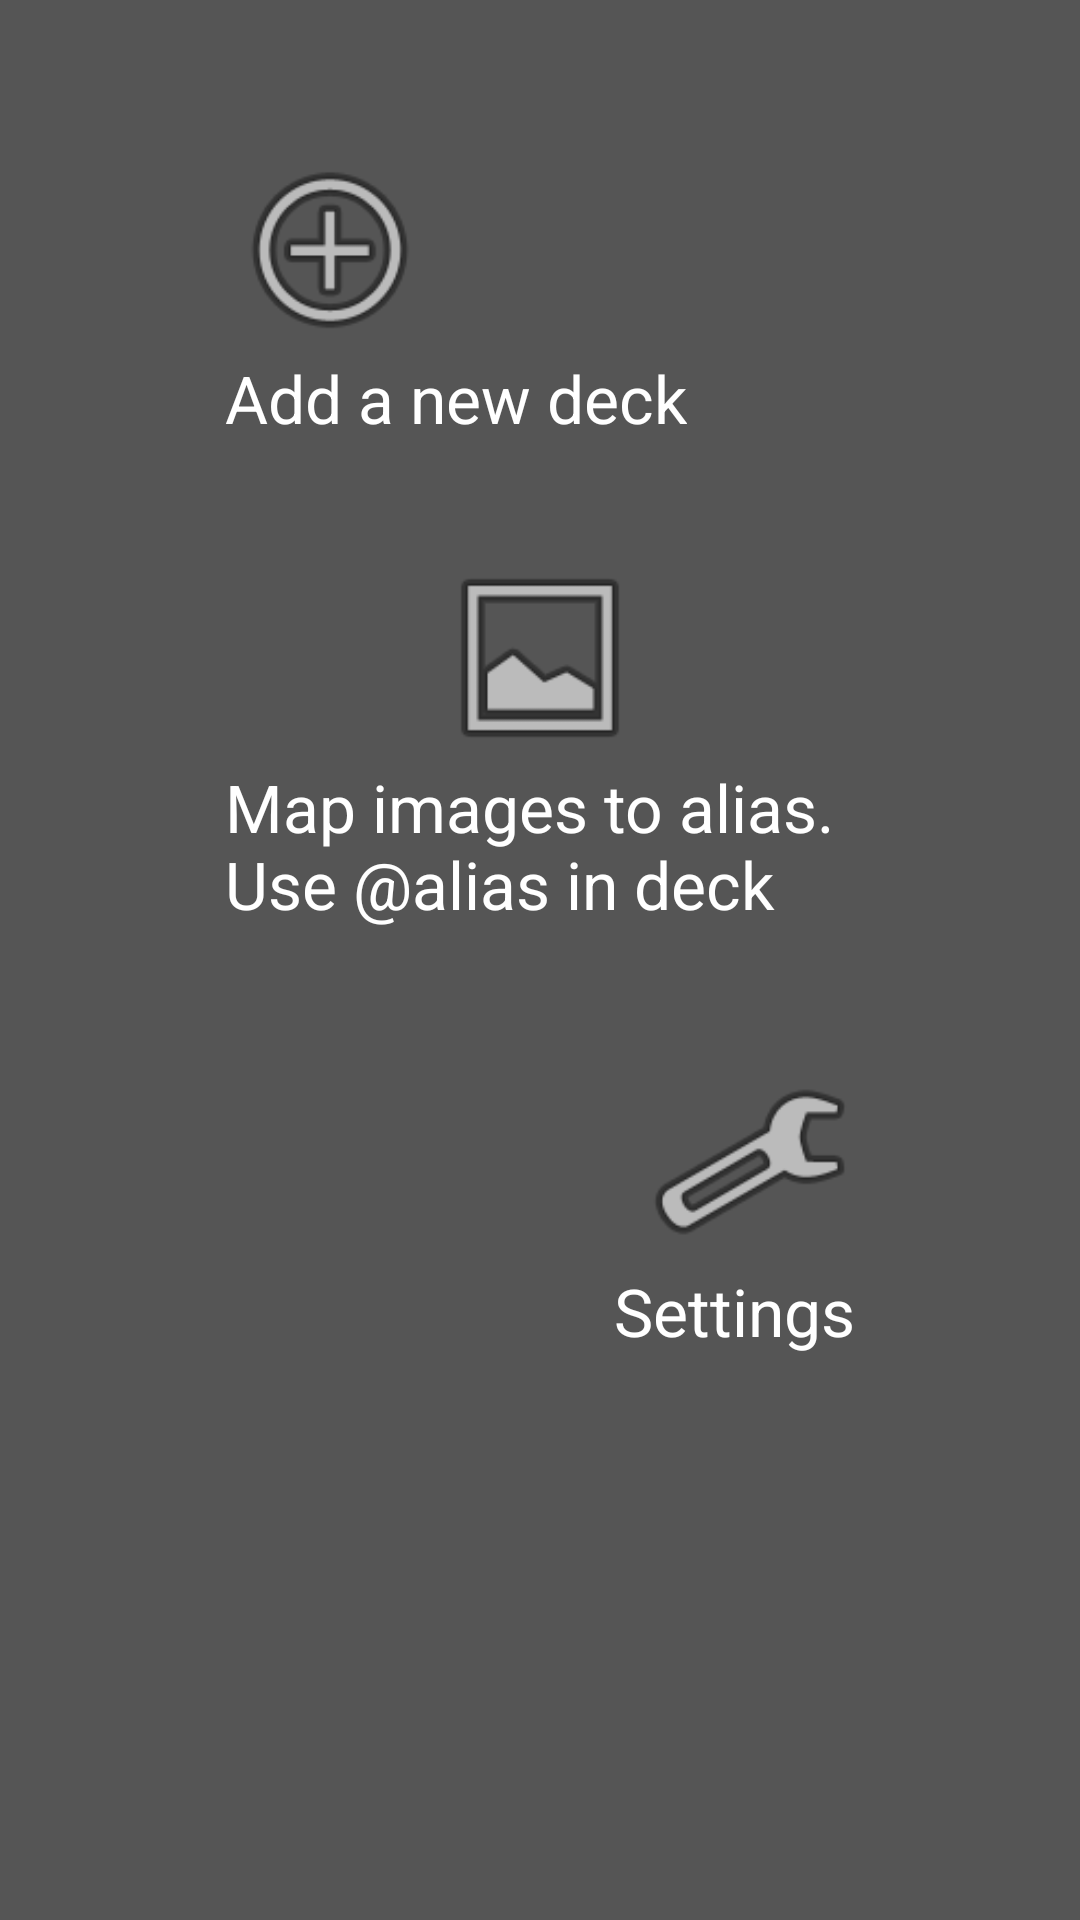

Named icons in this screenshot (1080w x 1920h) and their bounding boxes, [left=x1, top=y1, right=x2, bottom=y2]:
gallery: [left=462, top=580, right=618, bottom=736]
